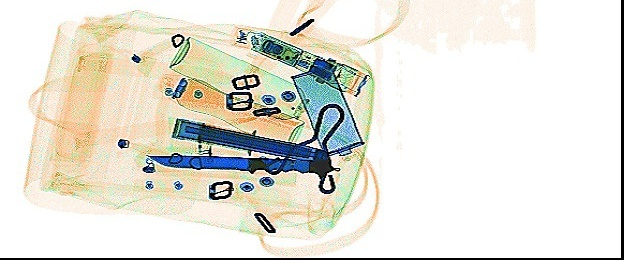knife: (143, 149, 339, 181)
pressure: (166, 34, 310, 120), (157, 71, 304, 145)
slingshot: (260, 101, 345, 195)
zippooil: (289, 66, 365, 156)
